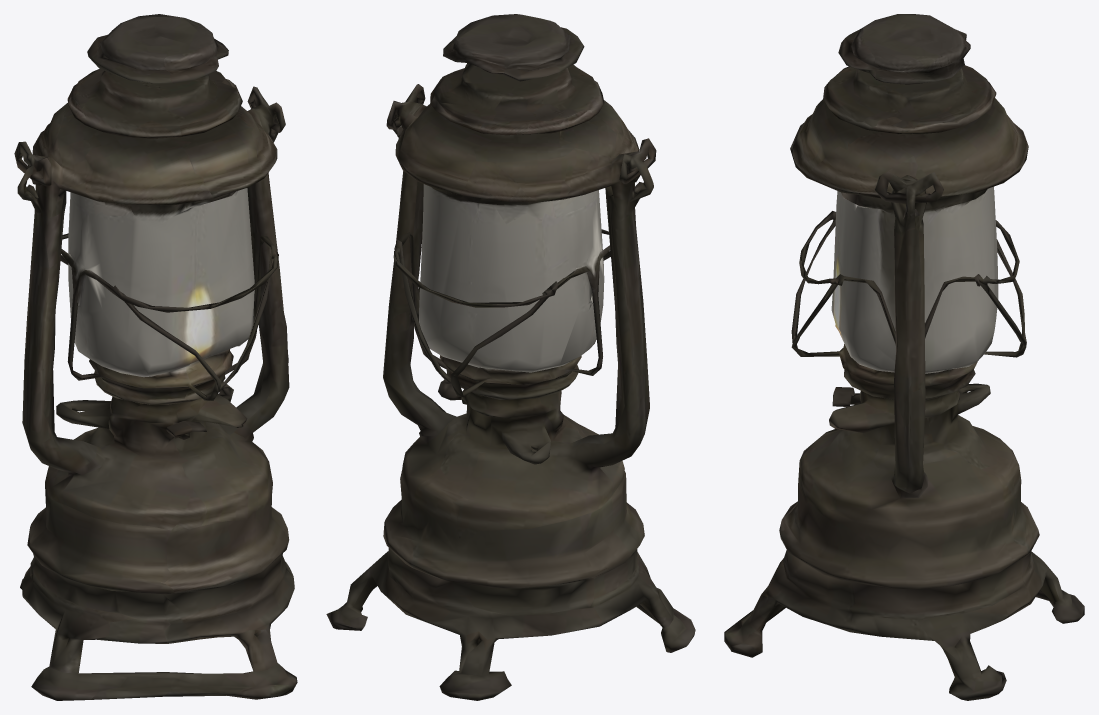
Rendered from kerosene_lantern.glb.
3 views of the same model, side by side, from view 1: azimuth 30°, elevation 25°; view 2: azimuth 150°, elevation 25°; view 3: azimuth 270°, elevation 25° (orthographic).
Visible parts, largest first — view 1: prop; view 2: prop; view 3: prop.
Part boxes in pixels (left/top/right/bottom): prop: left=14, top=14, right=297, bottom=700; prop: left=326, top=14, right=695, bottom=700; prop: left=724, top=14, right=1084, bottom=700.
Size of the model in its own units: 0.5232 by 1 by 0.5454.
Materials: 1 (1 with a texture image).
